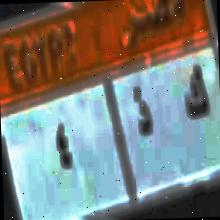4: (50, 116, 76, 180)
kaaf: (180, 56, 211, 130)
zaal: (130, 75, 154, 144)
